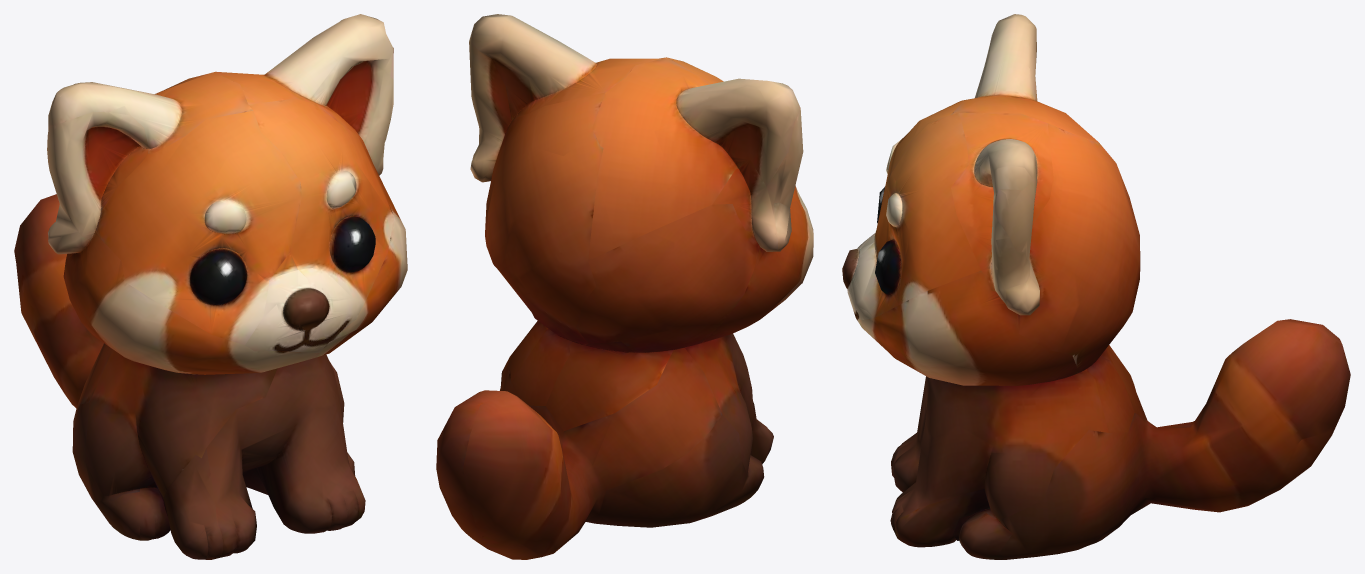
File: red_panda_pbr.glb
3 views of the same model, side by side, from view 1: azimuth 30°, elevation 25°; view 2: azimuth 150°, elevation 25°; view 3: azimuth 270°, elevation 25° (orthographic). The views are drawn at different scales.
Parts seen in each view (by area): view 1: model.016; view 2: model.016; view 3: model.016.
Boxes of the visible parts, x1=… form: model.016: x1=14, y1=14, x2=407, y2=559; model.016: x1=436, y1=14, x2=813, y2=559; model.016: x1=842, y1=14, x2=1350, y2=559.
Size of the model in its own units: 0.9905 by 1.25 by 1.35.
Materials: 1 (1 with a texture image).
